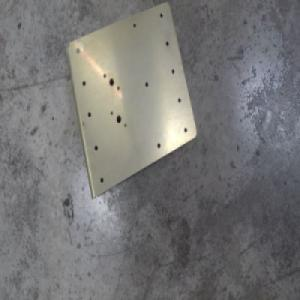MetalSheet: (63, 1, 198, 203)
